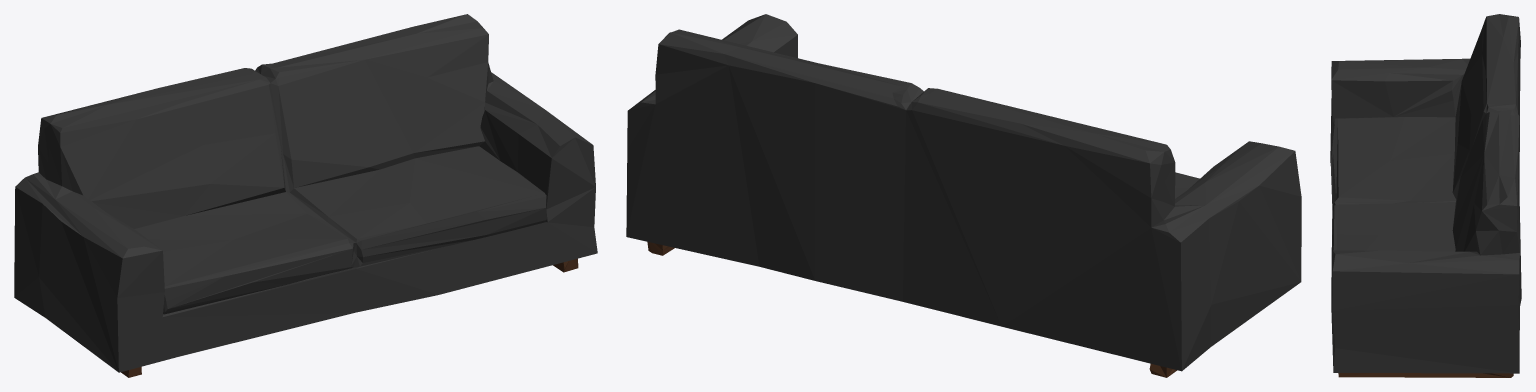
File: Sofa_Double.fbx
The picture shows the model from 3 angles, left to right: view 1: azimuth 30°, elevation 25°; view 2: azimuth 150°, elevation 25°; view 3: azimuth 270°, elevation 25°; orthographic projection. The views are drawn at different scales.
Parts seen in each view (by area): view 1: Sofa; view 2: Sofa; view 3: Sofa.
Part boxes in pixels (x1,y1,x2,y2): Sofa: (14,14,597,377); Sofa: (626,14,1301,377); Sofa: (1330,14,1521,377).
Bounding box in the file's own units: 401 × 153 × 152.
